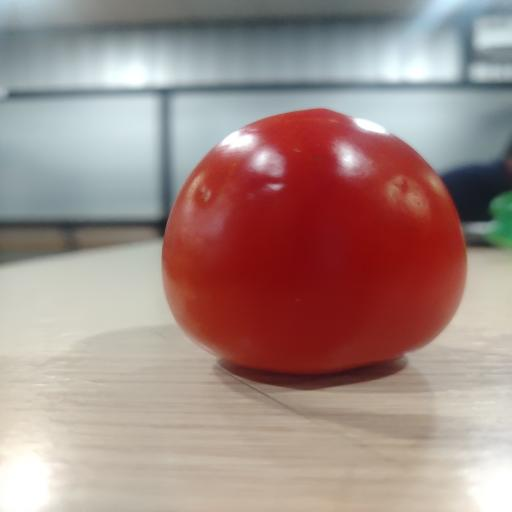overipe: (162, 109, 466, 374)
